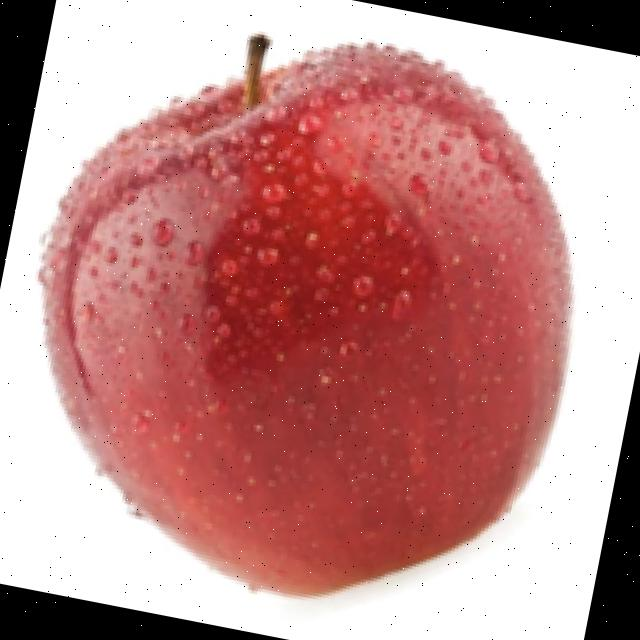apple: (31, 27, 577, 618)
